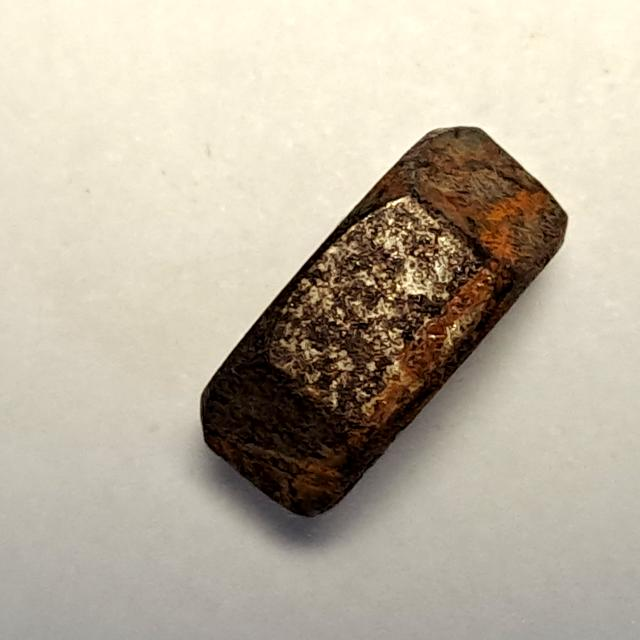Side_Rust: (186, 113, 580, 533)
